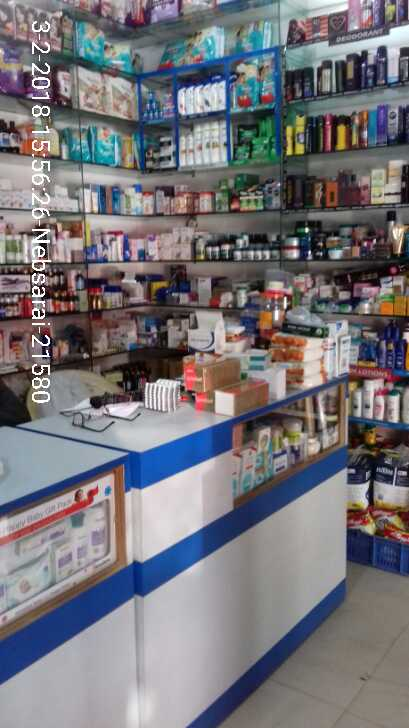vicks: (138, 86, 175, 118)
